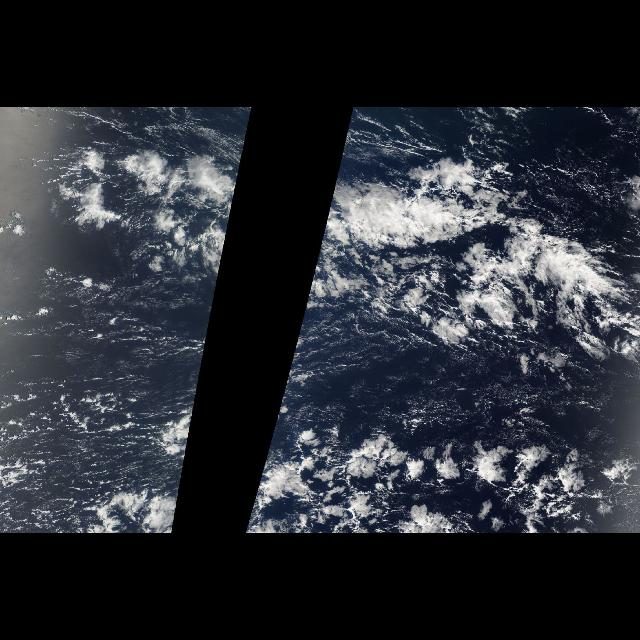Flower: (288, 394, 634, 528)
Gravel: (243, 386, 634, 532), (3, 272, 197, 532)
Sugar: (72, 318, 212, 382), (287, 318, 411, 382)
